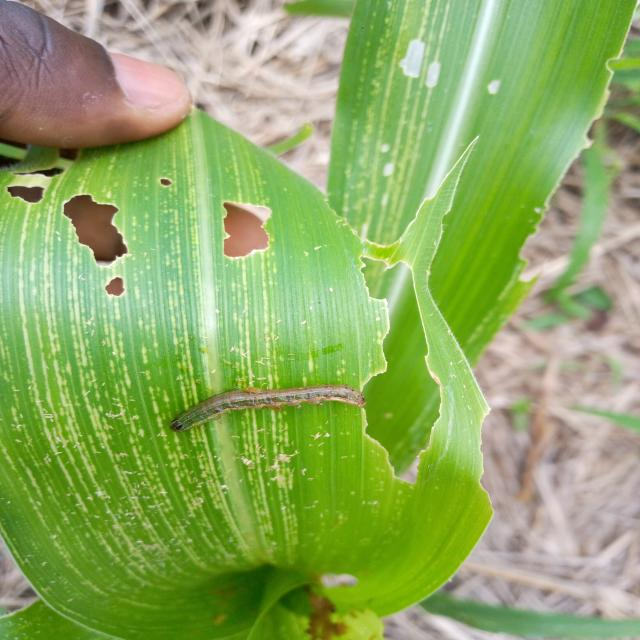yellow-stem-borer-larva: (155, 368, 374, 441)
